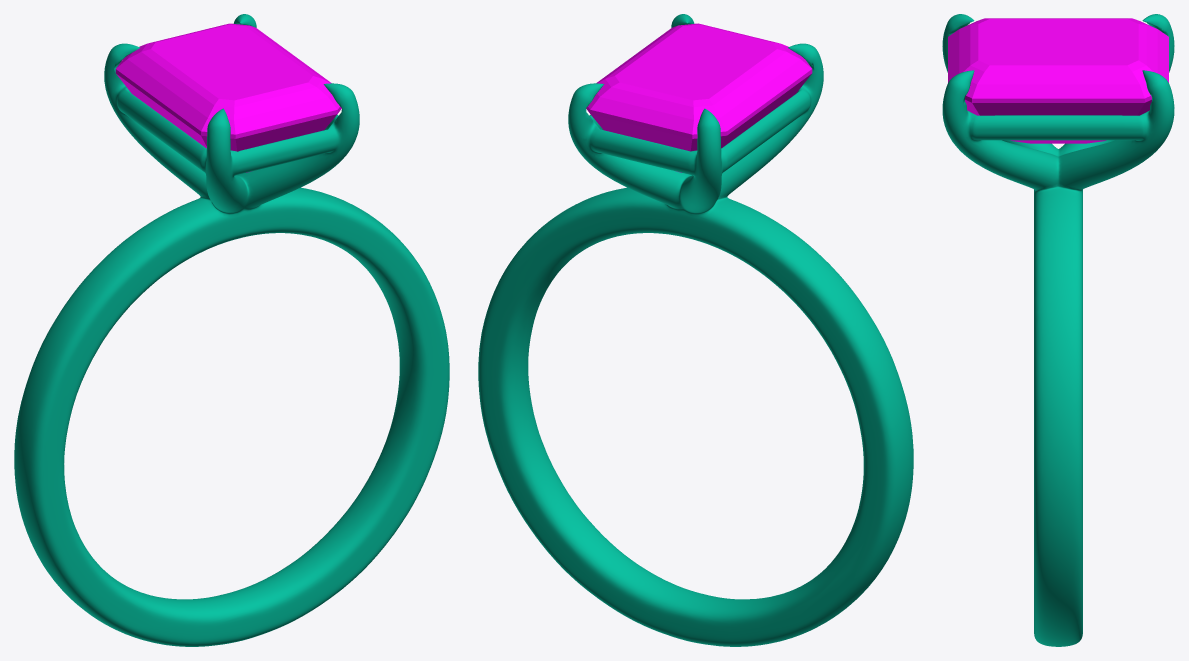
The model's file is BE1FM13_EM_200ct_RENDER.glb.
The picture shows the model from 3 angles, left to right: view 1: azimuth 30°, elevation 25°; view 2: azimuth 150°, elevation 25°; view 3: azimuth 270°, elevation 25°; orthographic projection.
Visible parts, largest first — view 1: Metal 01, CS_Diamond_Emerald; view 2: Metal 01, CS_Diamond_Emerald; view 3: Metal 01, CS_Diamond_Emerald.
Part boxes in pixels (x1,y1,x2,y2): Metal 01: (14,14,449,646); CS_Diamond_Emerald: (115,23,341,172); Metal 01: (478,14,913,646); CS_Diamond_Emerald: (586,23,812,172); Metal 01: (942,14,1174,646); CS_Diamond_Emerald: (948,18,1168,143).
Bounding box in the file's own units: 20.09 × 26.11 × 9.44.
